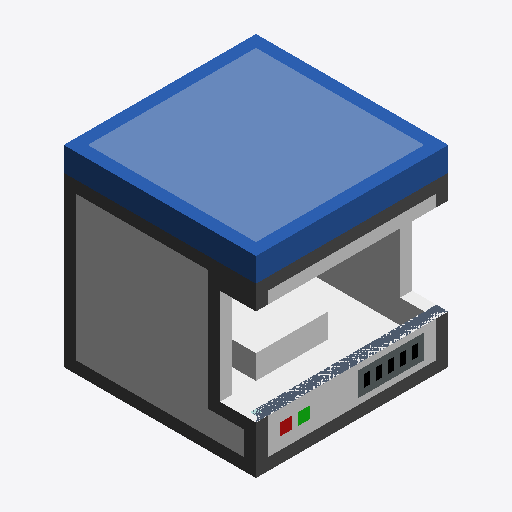
A Minecraft block model of 16 cuboids, rendered isometrically (azimuth 45°, elevation 35.3°) with the resource pack's own textures.
Visible parts, largest first — element 2, element 3, element 6, element 7, element 12, element 13, element 1, element 5, element 8, element 16, element 9, element 10.
Part boxes in pixels (bbox=[...]): element 2: bbox=[64, 34, 447, 269]; element 3: bbox=[64, 159, 231, 442]; element 6: bbox=[258, 315, 435, 456]; element 7: bbox=[268, 166, 435, 303]; element 12: bbox=[232, 277, 399, 407]; element 13: bbox=[232, 291, 327, 380]; element 1: bbox=[64, 354, 447, 477]; element 5: bbox=[317, 222, 411, 324]; element 8: bbox=[220, 395, 267, 463]; element 16: bbox=[253, 305, 447, 421]; element 9: bbox=[220, 249, 267, 310]; element 10: bbox=[400, 291, 447, 359].
Bounding box in the file's own units: 16 × 16 × 16.